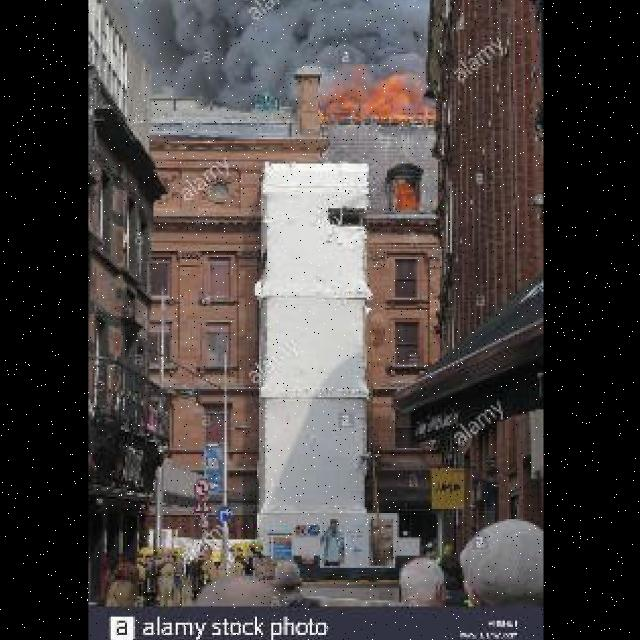fire: (316, 70, 434, 123)
smoke: (158, 1, 424, 72)
